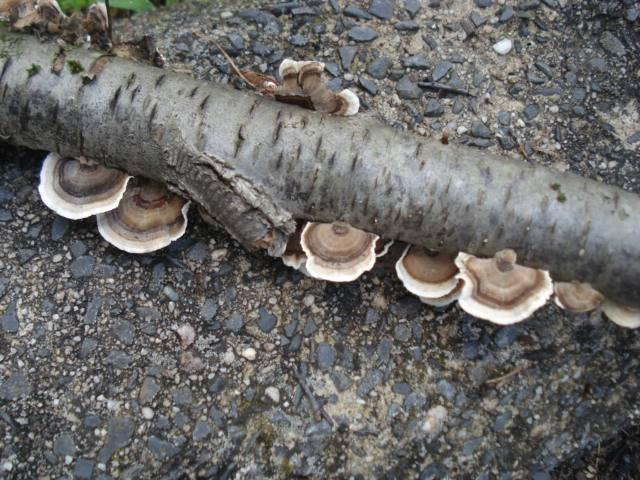poisonous_mushroom: (452, 247, 554, 325), (95, 175, 191, 254), (36, 150, 131, 220), (270, 57, 360, 117), (298, 219, 382, 282), (394, 242, 462, 307)
